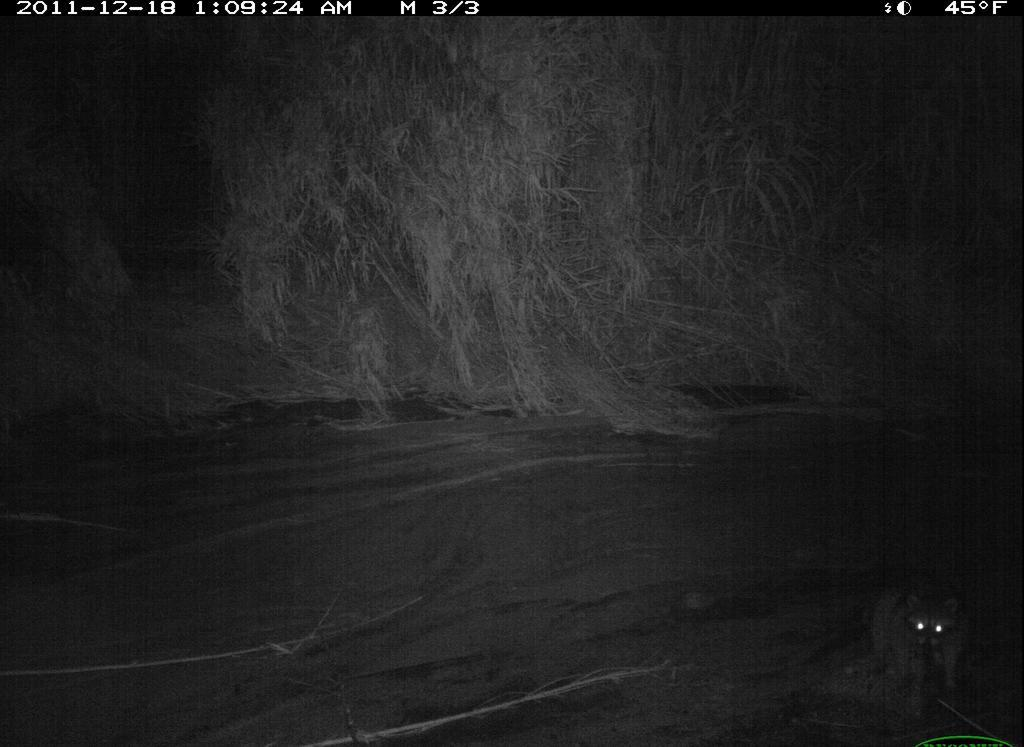raccoon: (853, 564, 987, 713)
